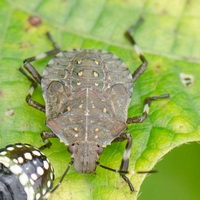insect: (24, 31, 146, 172), (0, 143, 53, 199)
